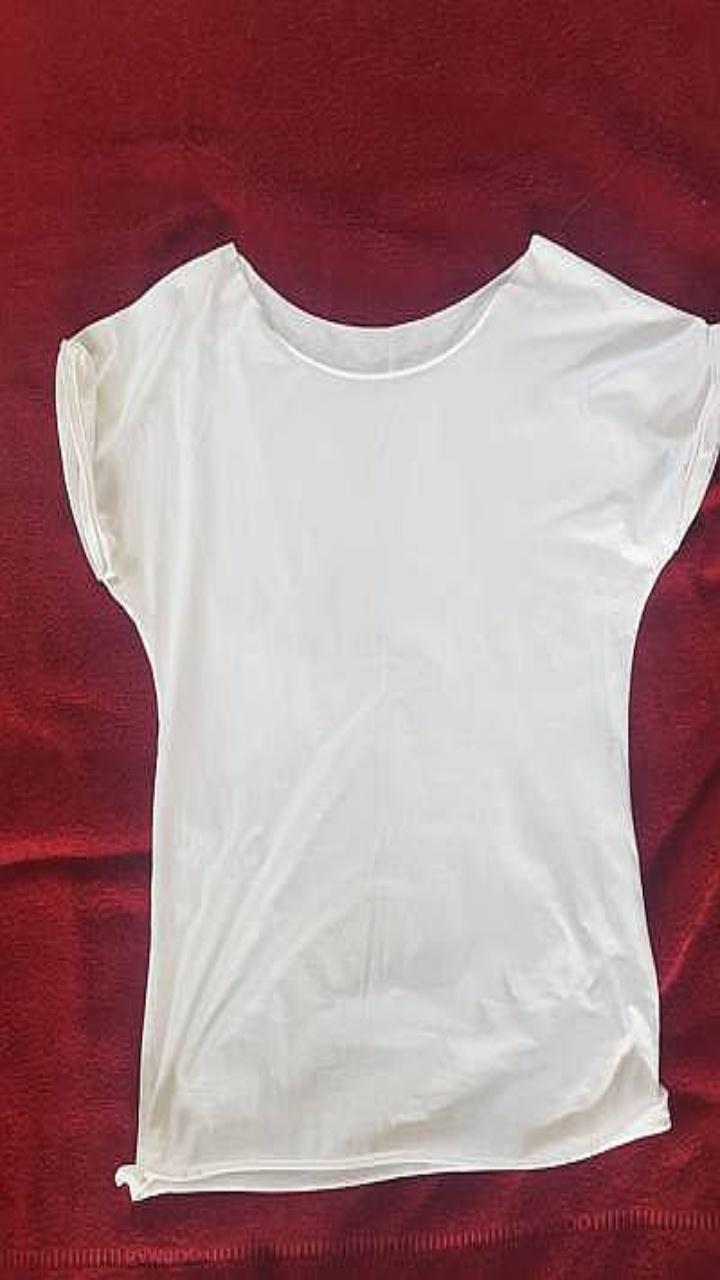T-Shirt: (56, 234, 719, 1199)
